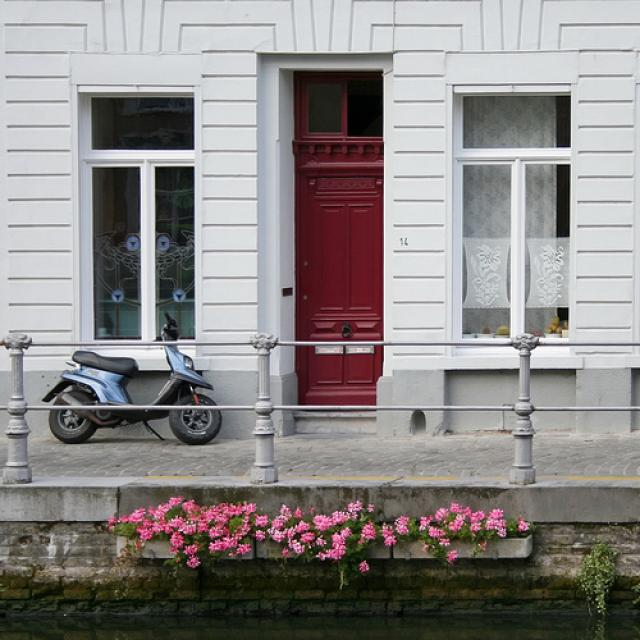motor: (45, 346, 222, 446)
